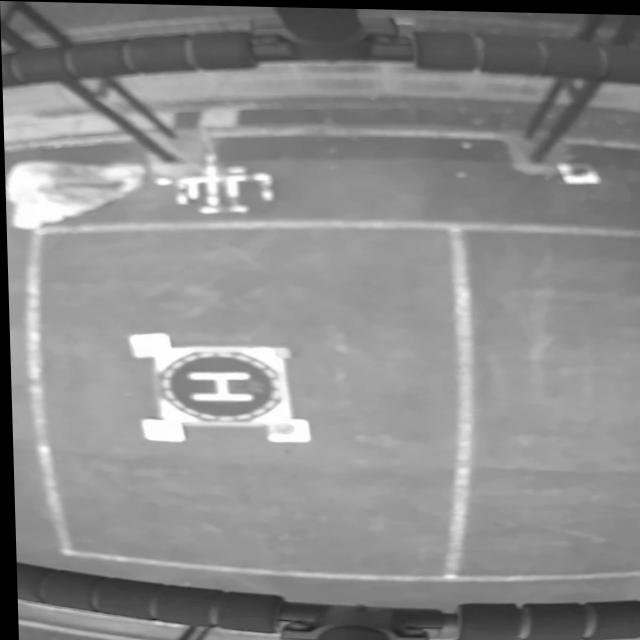Helipad: (187, 370, 250, 400)
